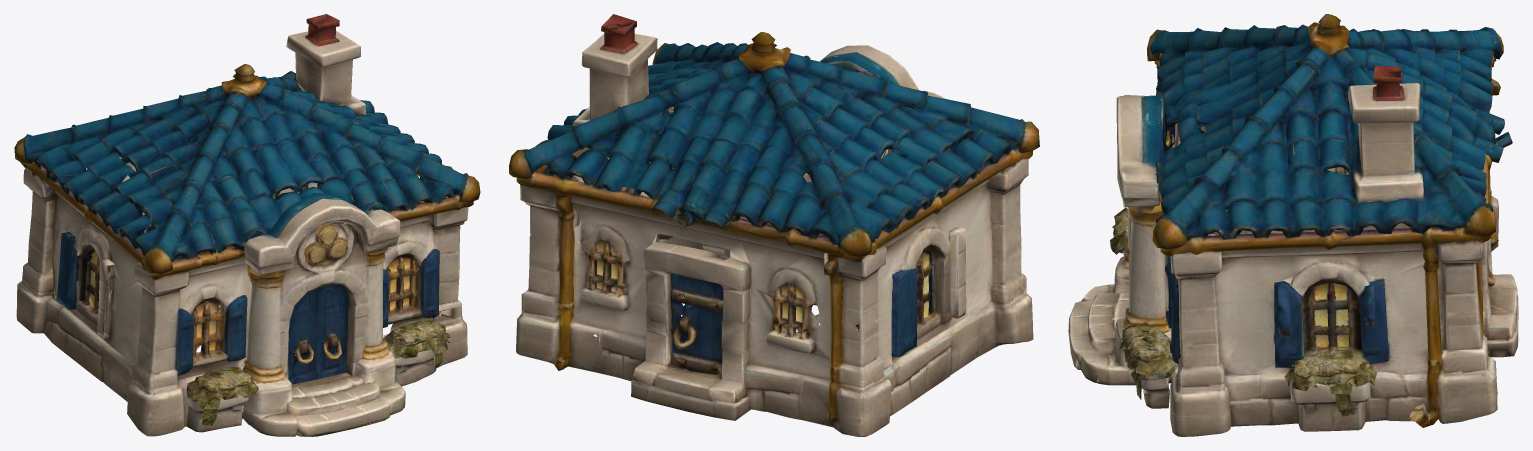
File: candidate.glb
The picture shows the model from 3 angles, left to right: view 1: azimuth 30°, elevation 25°; view 2: azimuth 150°, elevation 25°; view 3: azimuth 270°, elevation 25°; orthographic projection. The views are drawn at different scales.
Visible parts, largest first — view 1: harbor__vault_bank__native_mobile; view 2: harbor__vault_bank__native_mobile; view 3: harbor__vault_bank__native_mobile.
Boxes of the visible parts, x1,y1,x2,y2 form: harbor__vault_bank__native_mobile: [14, 14, 480, 436]; harbor__vault_bank__native_mobile: [509, 14, 1039, 436]; harbor__vault_bank__native_mobile: [1068, 14, 1518, 436].
Bounding box in the file's own units: 1 × 0.801 × 0.958.
1 material, 1 textured.
